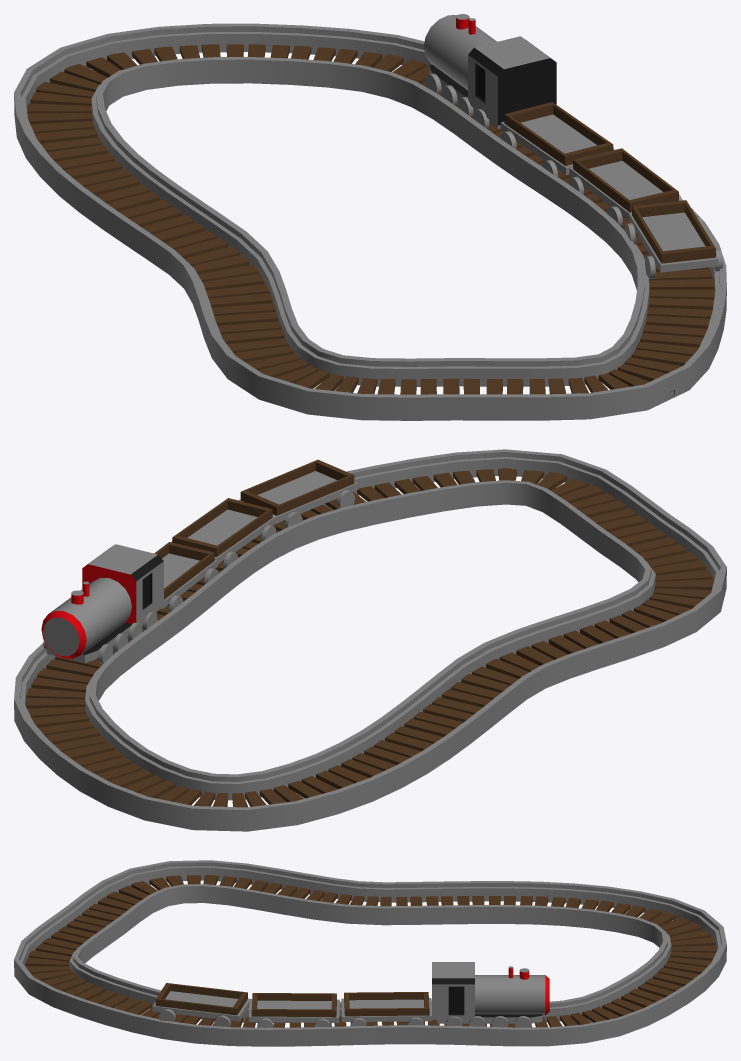
File: SM_Trainset.glb
3 views of the same model, one above another, from view 1: azimuth 30°, elevation 25°; view 2: azimuth 150°, elevation 25°; view 3: azimuth 270°, elevation 25° (orthographic). The views are drawn at different scales.
Visible parts, largest first — view 1: Track; view 2: Track; view 3: Track.
Part boxes in pixels (x1,y1,x2,y2): Track: (14,14,726,420); Track: (14,449,726,831); Track: (14,860,726,1046).
Size of the model in its own units: 0.9722 by 0.1791 by 1.68.
